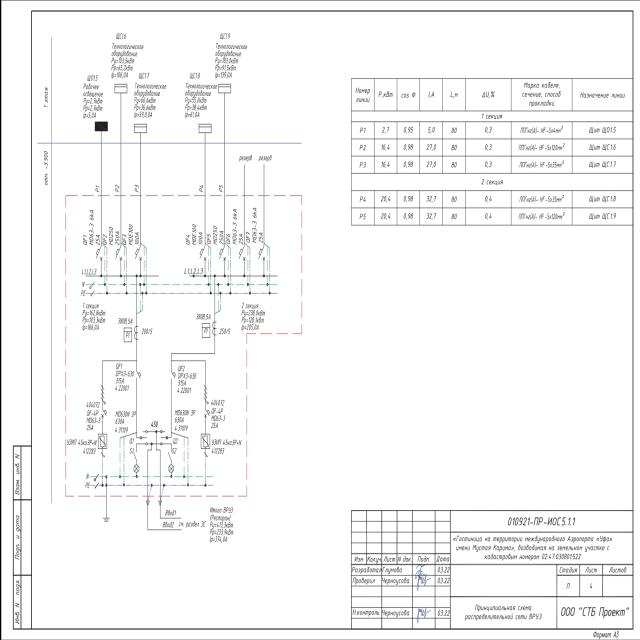-: (172, 408, 196, 432), (114, 408, 136, 434), (84, 400, 101, 433), (208, 398, 225, 431), (66, 438, 96, 456), (211, 437, 241, 455), (176, 372, 196, 395), (88, 208, 100, 246), (114, 370, 134, 392), (230, 208, 242, 244), (250, 208, 262, 244), (126, 224, 138, 246), (190, 224, 202, 246), (108, 226, 120, 246), (211, 225, 223, 245), (194, 312, 210, 322), (116, 316, 132, 326), (140, 327, 152, 338), (218, 326, 230, 336), (150, 421, 158, 427)
FV: (97, 435, 106, 448), (201, 434, 209, 448)
HL: (131, 464, 139, 472), (167, 464, 173, 474)
QF: (93, 244, 102, 262), (237, 245, 246, 262), (112, 245, 121, 262), (132, 245, 141, 262), (198, 245, 206, 263), (218, 245, 226, 262), (256, 245, 264, 262), (203, 408, 209, 421), (100, 408, 106, 420), (169, 370, 175, 381), (134, 370, 140, 380)
QS: (132, 449, 136, 462), (168, 449, 172, 461)
TT: (210, 321, 217, 336), (132, 325, 138, 341)
WH: (122, 327, 132, 343), (200, 322, 210, 338)
switch: (138, 429, 148, 447), (158, 430, 168, 447)
